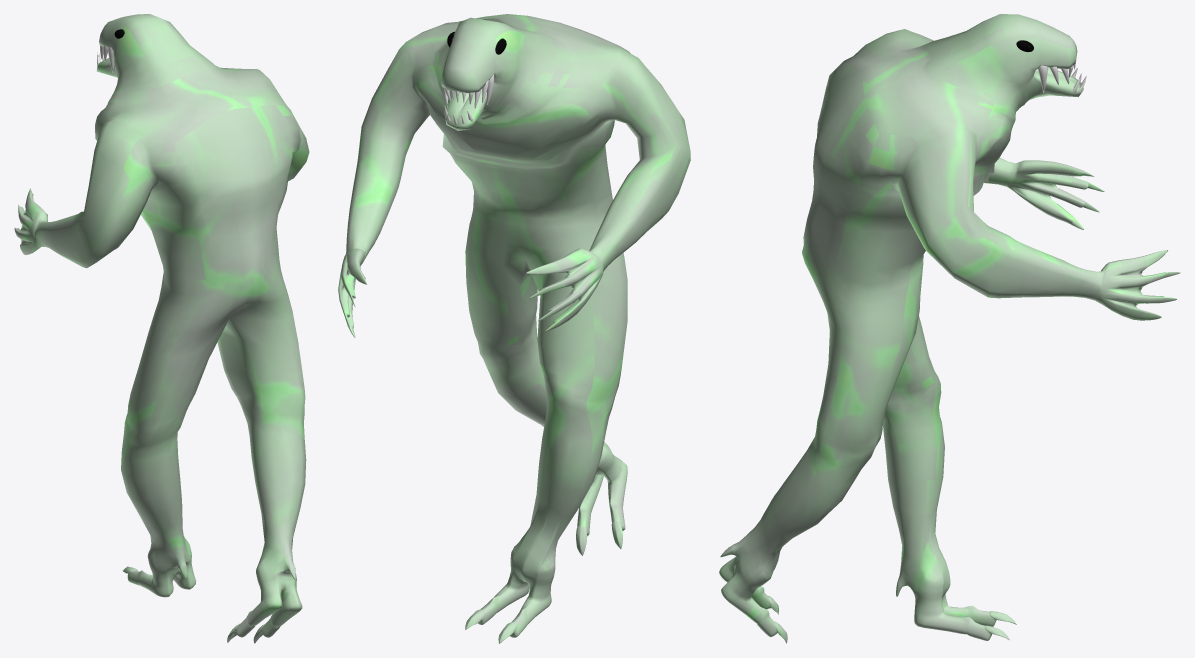
File: Berserkercorrer.0063.obj
3 renders of one model, left to right at view 1: azimuth 30°, elevation 25°; view 2: azimuth 150°, elevation 25°; view 3: azimuth 270°, elevation 25°, orthographic. The views are drawn at different scales.
Parts seen in each view (by area): view 1: polySurface27; view 2: polySurface27; view 3: polySurface27.
Boxes of the visible parts, x1,y1,x2,y2 form: polySurface27: (14,14,309,643); polySurface27: (338,14,690,643); polySurface27: (719,14,1180,643).
Size of the model in its own units: 11.13 by 23.64 by 15.95.
Materials: 1 (1 with a texture image).
